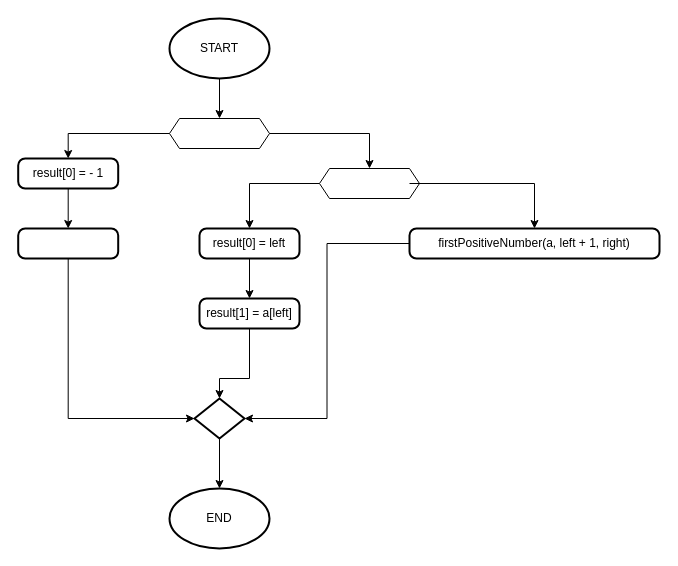
Some shapes in this 678 by 566 pixel diagram are drawn without their labels. The shapes that lost their labels are listed below. From the top down, each one's centre as x and y in pixels, then its label:
At pixel 219 133: "left > right".
At pixel 369 183: "a[ left ] > 0".
At pixel 68 243: "result[1] = - 1".
